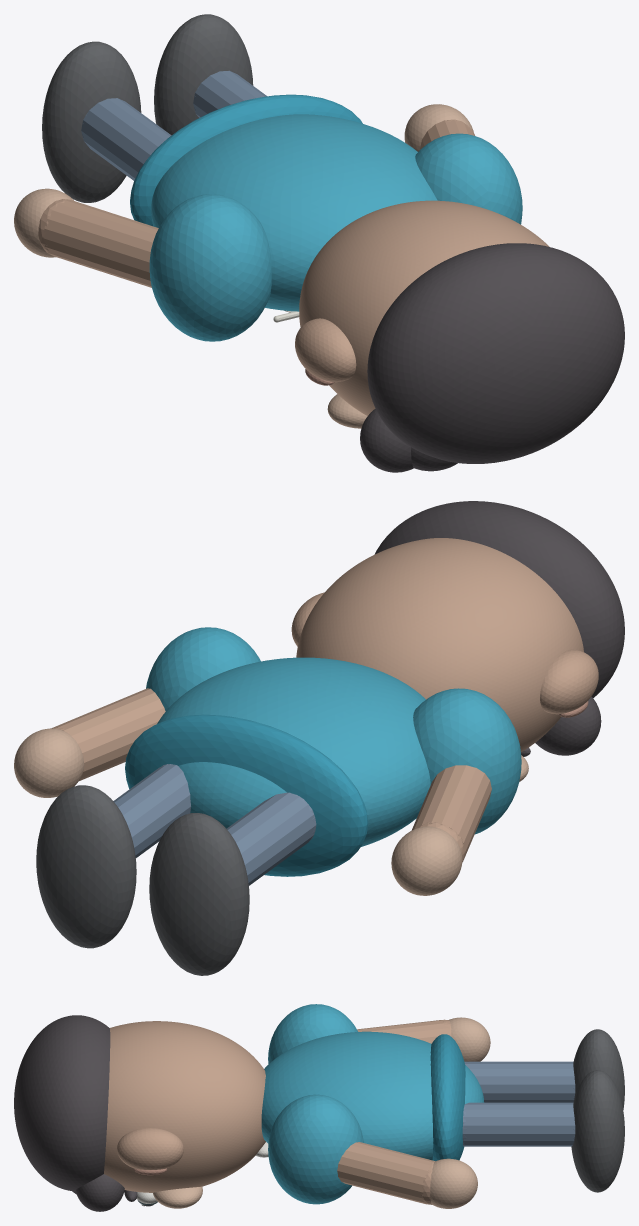
Rendered from child_3d_model.glb.
3 renders of one model, top to bottom at view 1: azimuth 30°, elevation 25°; view 2: azimuth 150°, elevation 25°; view 3: azimuth 270°, elevation 25°, orthographic. The views are drawn at different scales.
Parts seen in each view (by area): view 1: hair_cap, shirt_torso, head, left_sleeve, left_shoe, right_shoe, left_arm, right_sleeve, shirt_hem, left_leg, left_ear, fringe_0 (+5 smaller); view 2: head, shirt_torso, shirt_hem, hair_cap, right_shoe, left_shoe, left_sleeve, right_sleeve, right_arm, left_leg, right_leg, left_arm (+4 smaller); view 3: head, shirt_torso, hair_cap, right_sleeve, right_shoe, right_leg, left_leg, shirt_hem, right_arm, left_sleeve, right_ear, left_shoe (+5 smaller).
Part boxes in pixels (x1,y1,x2,y2): hair_cap: [367, 243, 624, 463]; shirt_torso: [151, 114, 437, 311]; head: [299, 200, 549, 415]; left_sleeve: [149, 194, 271, 341]; left_shoe: [42, 41, 141, 202]; right_shoe: [154, 14, 253, 135]; left_arm: [43, 200, 158, 287]; right_sleeve: [415, 133, 522, 224]; shirt_hem: [130, 94, 362, 226]; left_leg: [81, 98, 171, 180]; left_ear: [295, 318, 356, 382]; fringe_0: [360, 409, 413, 472]; head: [296, 538, 583, 752]; shirt_torso: [157, 657, 430, 846]; shirt_hem: [125, 714, 368, 876]; hair_cap: [374, 501, 624, 697]; right_shoe: [36, 785, 136, 948]; left_shoe: [149, 813, 249, 975]; left_sleeve: [413, 688, 521, 834]; right_sleeve: [146, 627, 260, 711]; right_arm: [51, 688, 165, 780]; left_leg: [226, 792, 315, 885]; right_leg: [113, 764, 190, 858]; left_arm: [411, 765, 491, 862]; head: [104, 1021, 265, 1192]; shirt_torso: [261, 1031, 484, 1160]; hair_cap: [14, 1015, 110, 1191]; right_sleeve: [268, 1094, 363, 1204]; right_shoe: [571, 1070, 624, 1192]; right_leg: [463, 1102, 575, 1146]; left_leg: [464, 1061, 575, 1102]; shirt_hem: [430, 1034, 465, 1161]; right_arm: [337, 1142, 435, 1203]; left_sleeve: [268, 1004, 357, 1064]; right_ear: [117, 1128, 183, 1169]; left_shoe: [573, 1029, 624, 1109].
Size of the model in its own units: 1.81 by 0.882 by 2.91.
